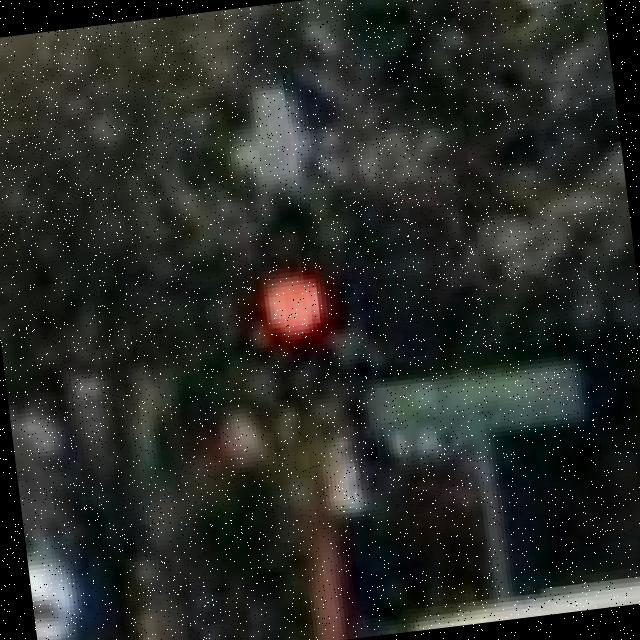Zolte swiatlo: (243, 188, 342, 410)
